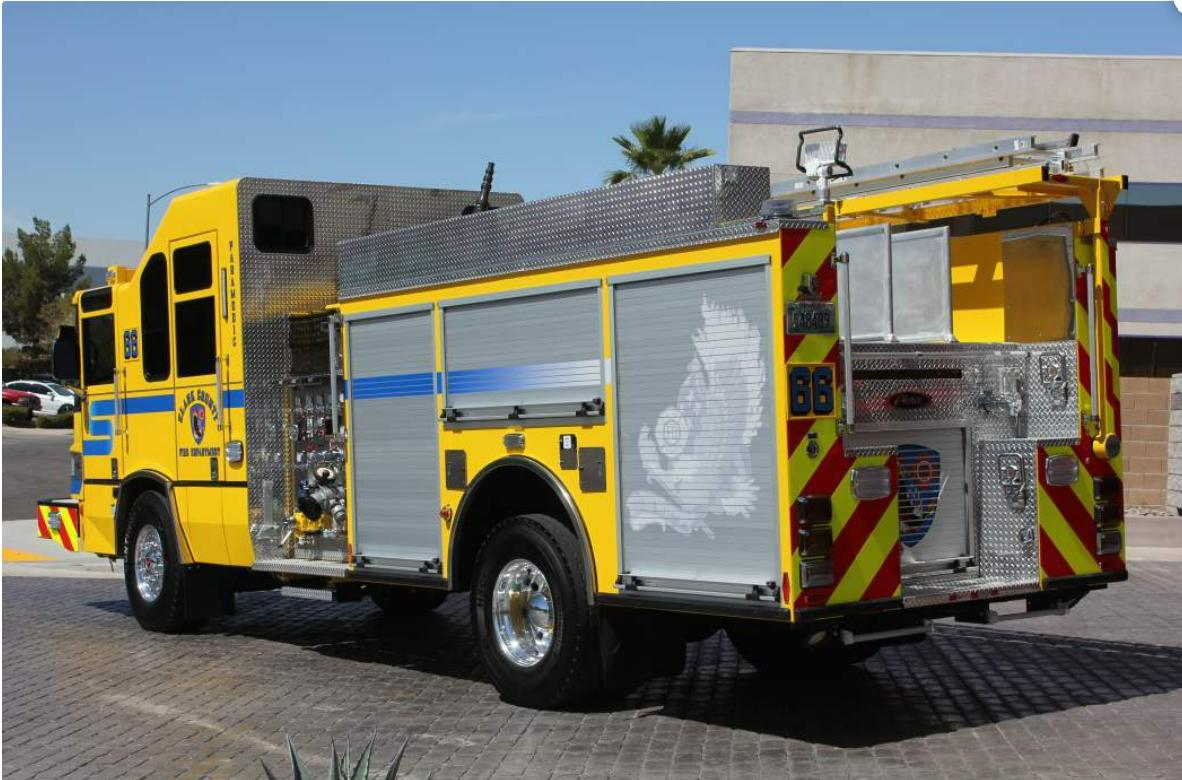firetruck_off: (39, 134, 1124, 697)
